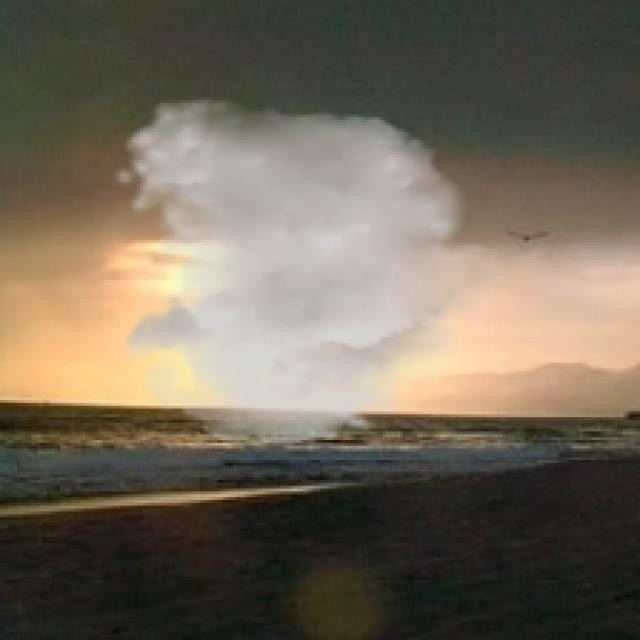Smoke: (109, 97, 518, 446)
